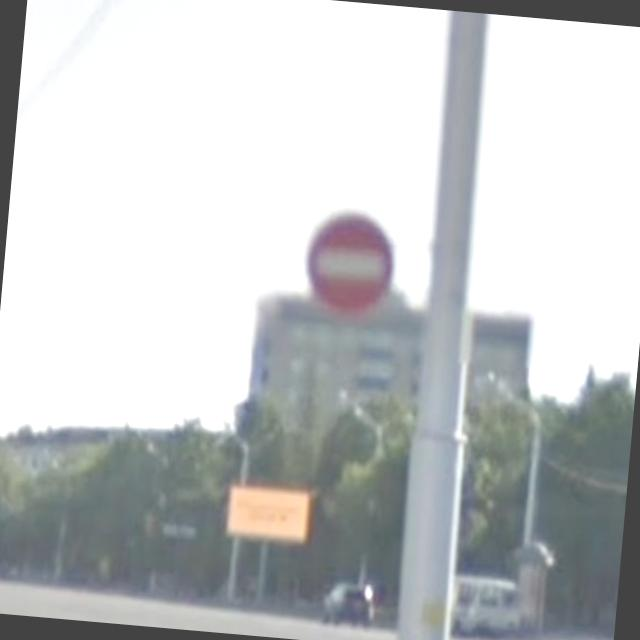Zakaz wjazdu: (298, 204, 402, 320)
